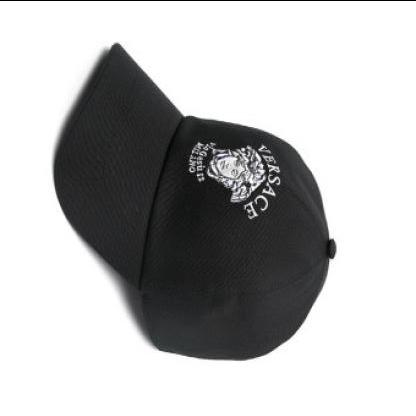cap: (52, 30, 340, 364)
